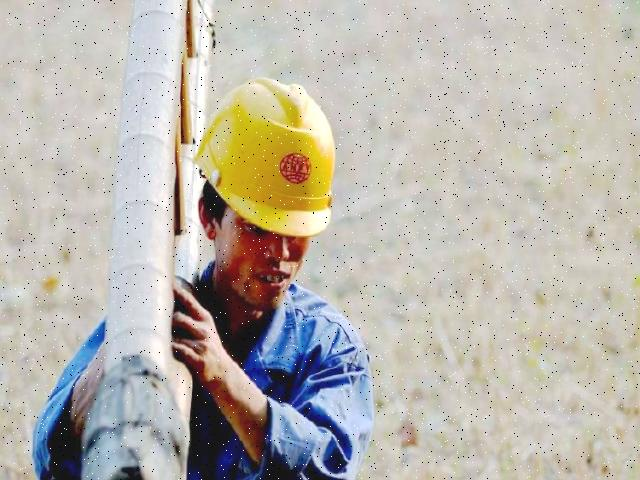Helmet: (187, 70, 339, 242)
